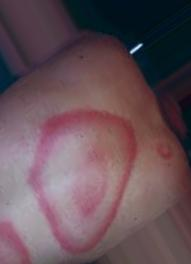Tick: (30, 117, 128, 249), (0, 222, 31, 263), (156, 143, 171, 158)
